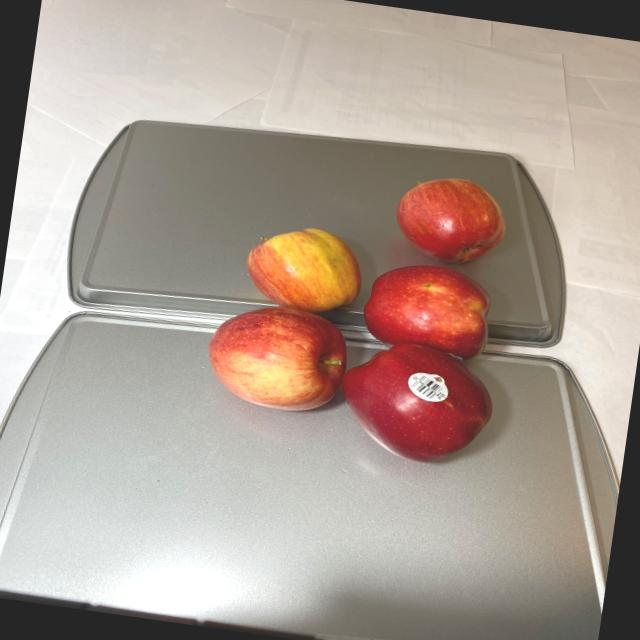apple: (195, 146, 523, 473)
